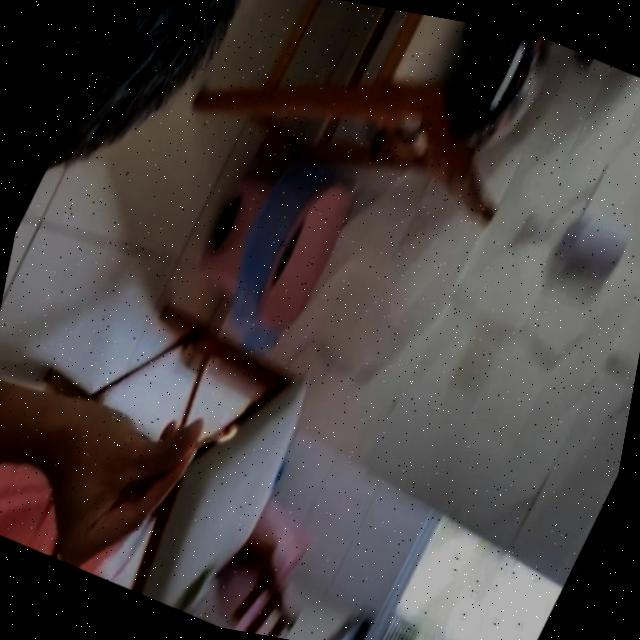fire: (211, 421, 238, 452)
